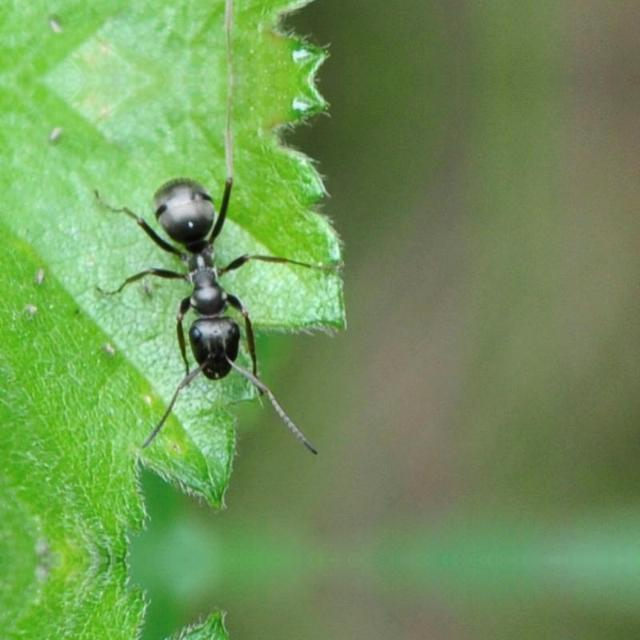Formica: (96, 148, 370, 466)
